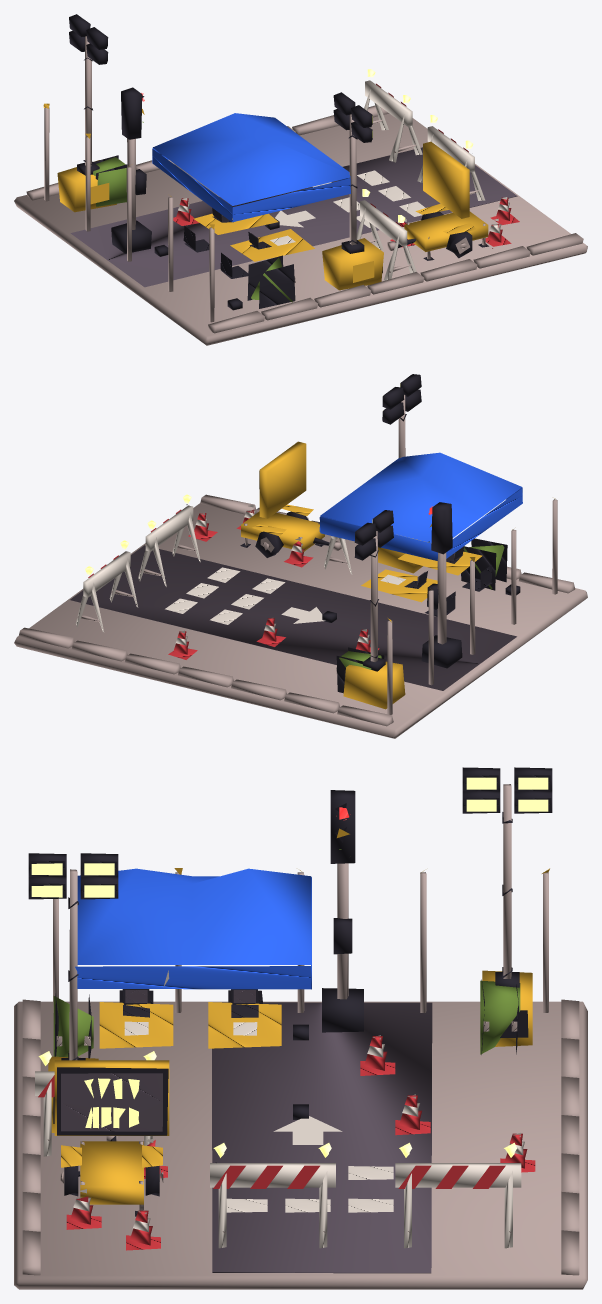
3 renders of one model, top to bottom at view 1: azimuth 30°, elevation 25°; view 2: azimuth 150°, elevation 25°; view 3: azimuth 270°, elevation 25°, orthographic. The views are drawn at different scales.
Size of the model in its own units: 9.4 by 4.4 by 8.2.
